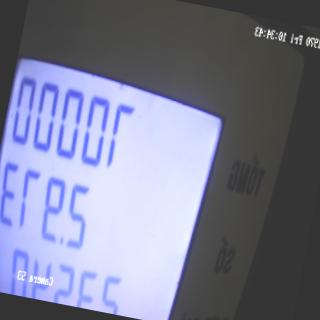screen: (0, 33, 241, 320)
